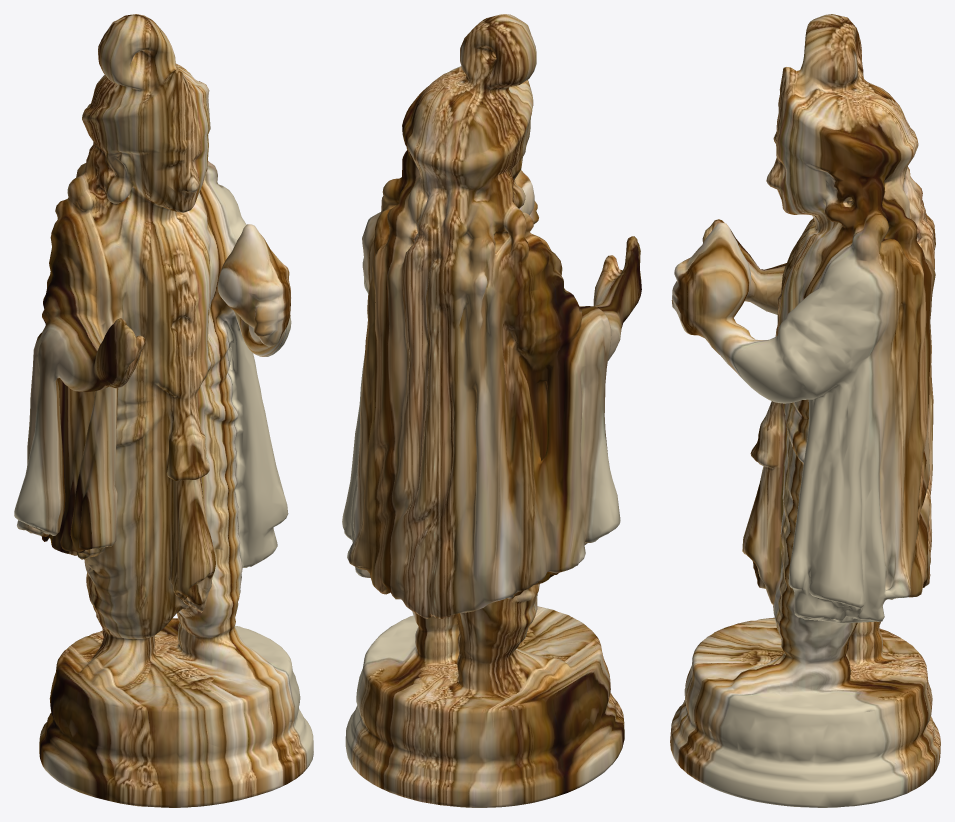
File: mantri.glb
3 renders of one model, left to right at view 1: azimuth 30°, elevation 25°; view 2: azimuth 150°, elevation 25°; view 3: azimuth 270°, elevation 25°, orthographic. The views are drawn at different scales.
Parts seen in each view (by area): view 1: geometry_0; view 2: geometry_0; view 3: geometry_0.
Boxes of the visible parts, x1=… form: geometry_0: x1=14, y1=14, x2=313, y2=807; geometry_0: x1=342, y1=14, x2=641, y2=807; geometry_0: x1=670, y1=14, x2=940, y2=807.
Bounding box in the file's own units: 0.7381 × 1.97 × 0.6653.
1 material, 1 textured.
